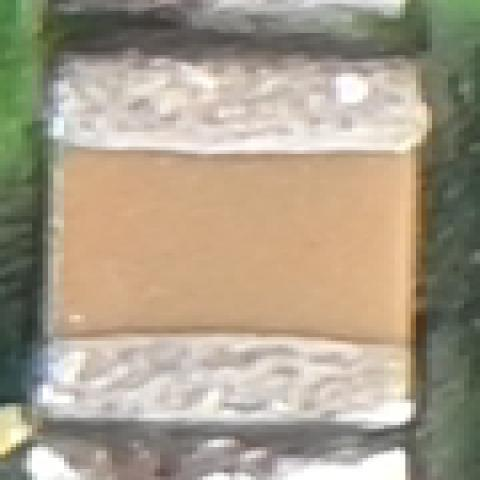Capacitor: (31, 48, 428, 442)
